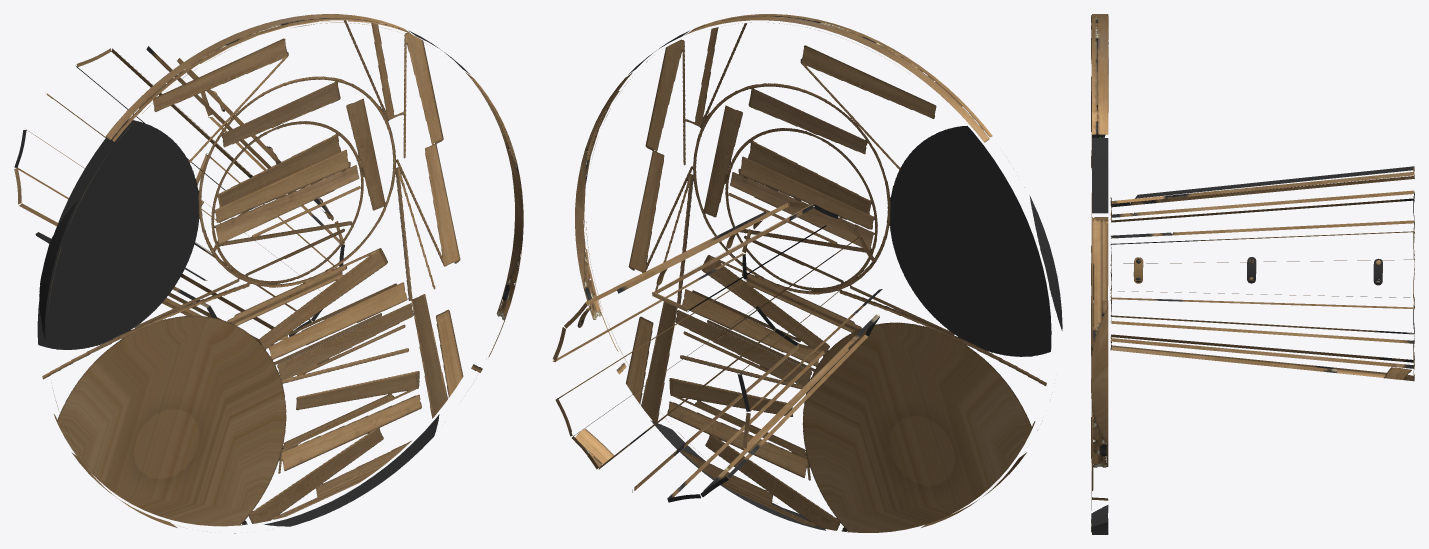
3 views of the same model, side by side, from view 1: azimuth 30°, elevation 25°; view 2: azimuth 150°, elevation 25°; view 3: azimuth 270°, elevation 25° (orthographic). The views are drawn at different scales.
Size of the model in its own units: 0.6823 by 0.6823 by 0.4241.
